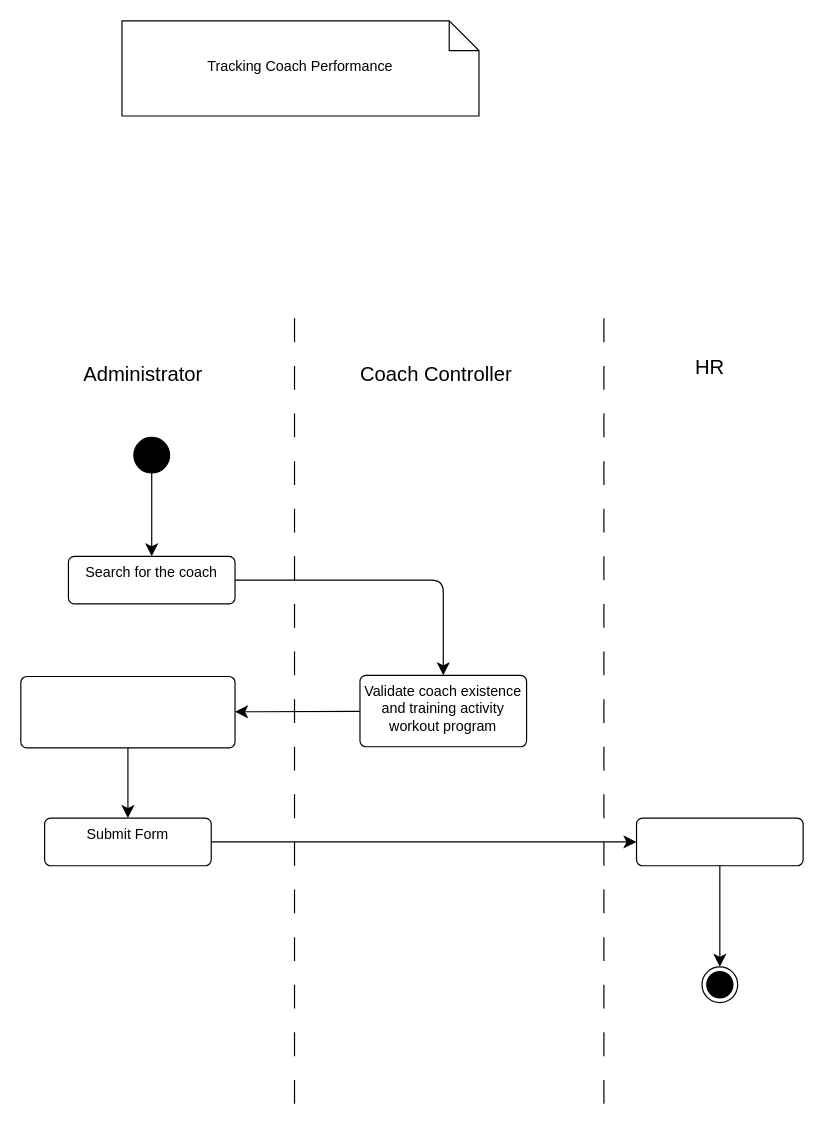
Image size: 825x1136. Some labels were removed from this diagram. Each missing label, with the centre of its shape:
"Enter attended sessions, work days and notes about his performance" goes at pixel 127 711.
"Send report" goes at pixel 719 841.
